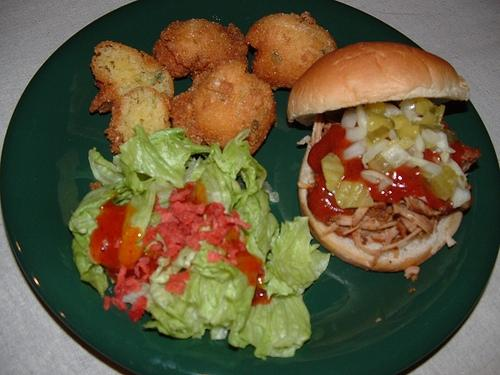lettuce: (263, 216, 330, 294), (239, 294, 312, 360), (178, 266, 237, 326), (147, 126, 211, 180), (68, 181, 118, 235), (200, 162, 246, 216), (212, 128, 250, 180)
onion: (362, 138, 392, 165), (382, 143, 412, 168), (360, 170, 394, 192), (446, 157, 468, 184), (450, 182, 471, 209), (344, 141, 368, 160), (400, 104, 422, 122), (340, 107, 358, 128), (418, 161, 442, 176), (346, 126, 367, 142), (422, 128, 441, 144), (383, 102, 403, 117), (356, 104, 368, 126), (414, 133, 426, 152), (364, 135, 376, 152), (408, 156, 428, 166), (429, 146, 444, 154), (440, 151, 450, 163), (389, 129, 397, 140)
tomato: (90, 199, 128, 273), (307, 124, 346, 174), (165, 264, 193, 295), (181, 202, 206, 214)
